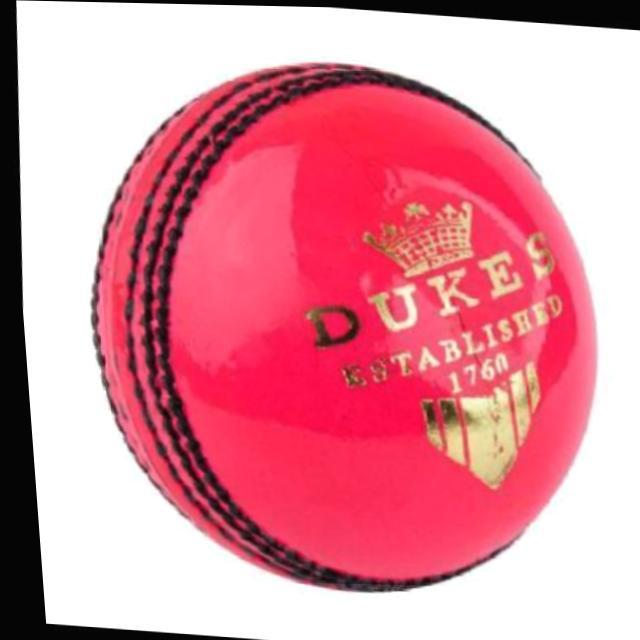-: (84, 65, 626, 588)
